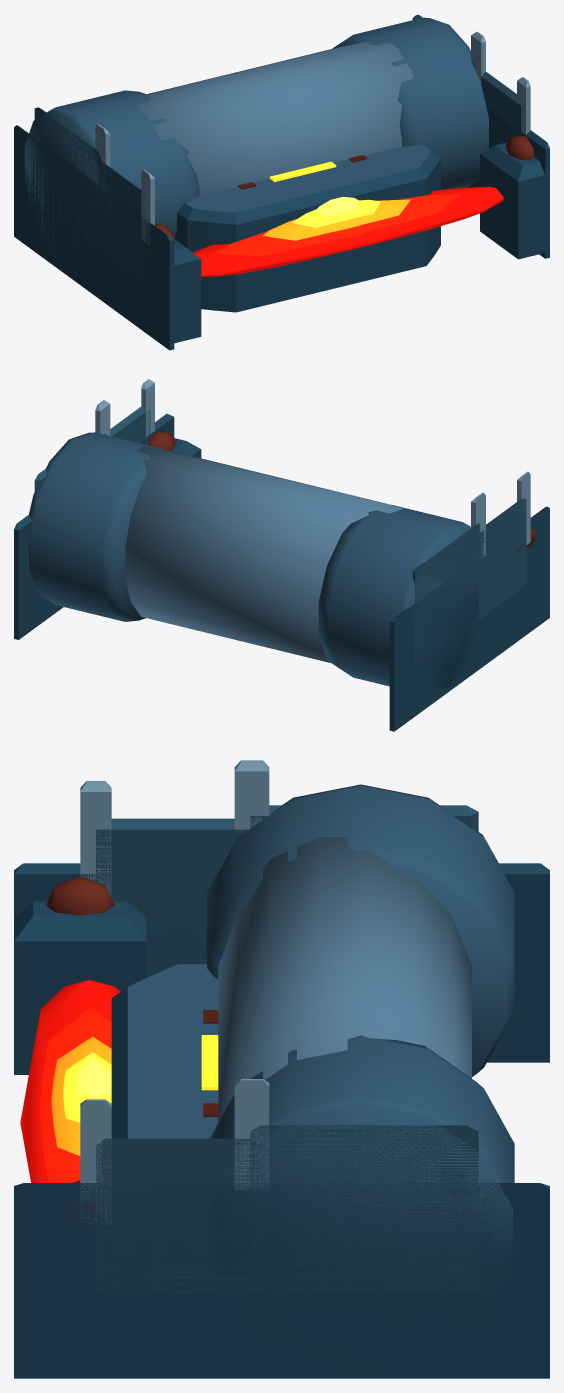
The model's file is newshv-91-f2.glb.
3 views of the same model, one above another, from view 1: azimuth 30°, elevation 25°; view 2: azimuth 150°, elevation 25°; view 3: azimuth 270°, elevation 25° (orthographic). The views are drawn at different scales.
Visible parts, largest first — view 1: newshv-91-f2; view 2: newshv-91-f2; view 3: newshv-91-f2.
Boxes of the visible parts, x1,y1,x2,y2 form: newshv-91-f2: [14, 14, 549, 350]; newshv-91-f2: [14, 379, 549, 731]; newshv-91-f2: [14, 760, 549, 1378].
Size of the model in its own units: 2 by 0.9 by 1.42.
